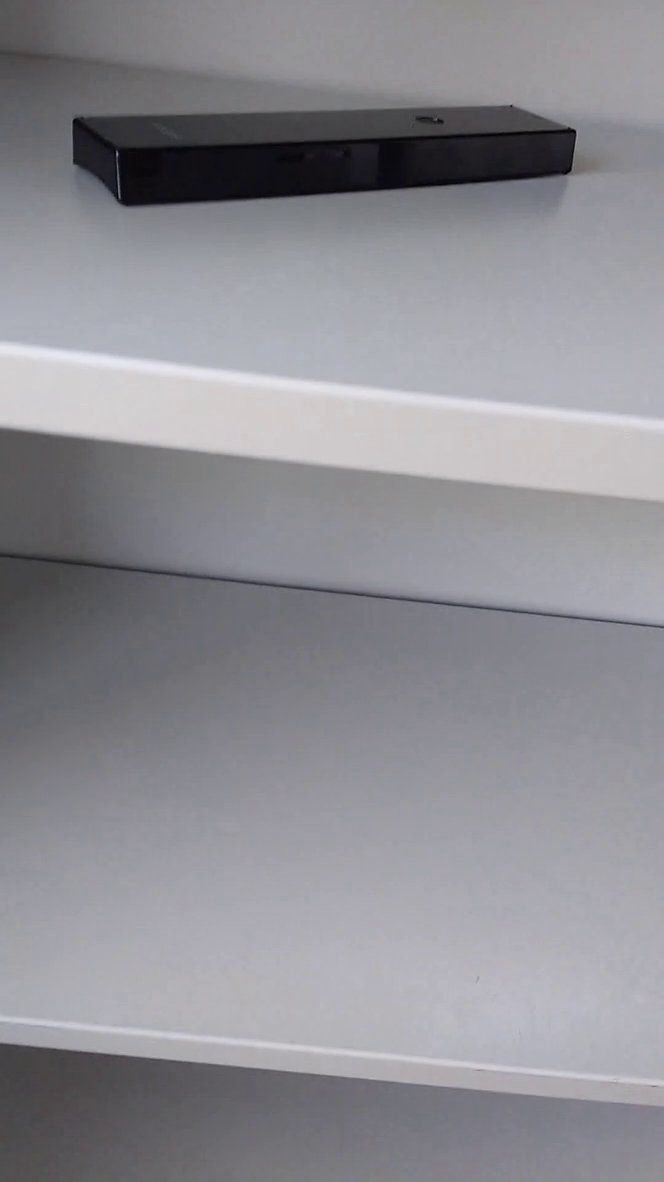remote: (62, 79, 595, 223)
